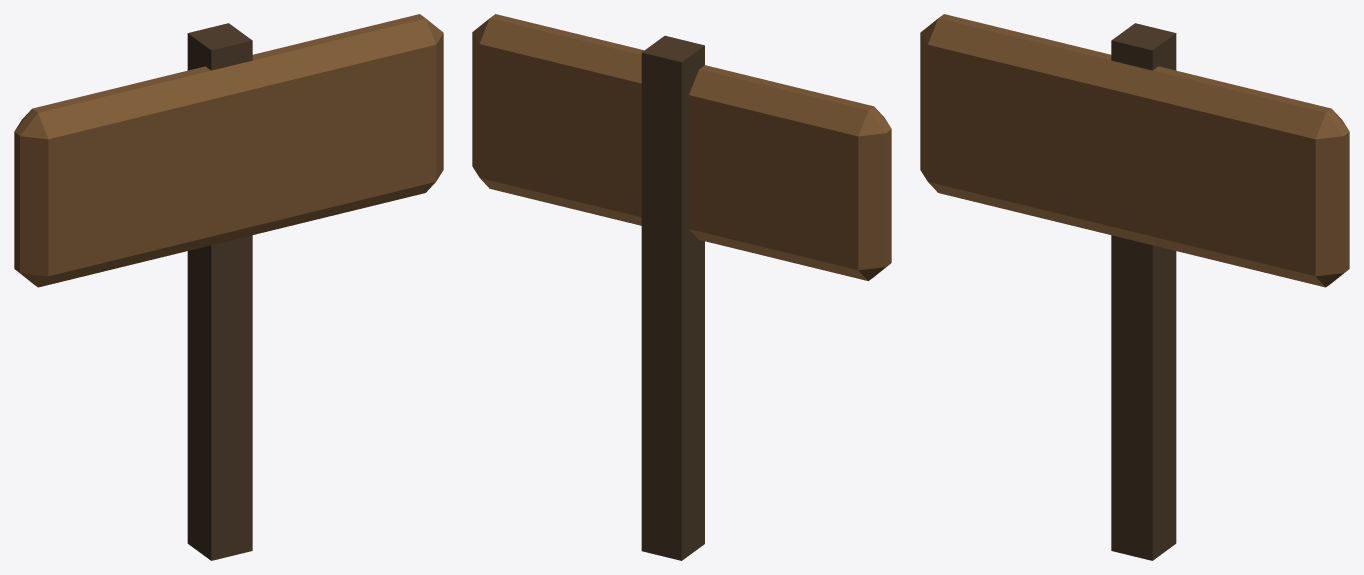
File: wooden_sign.glb
3 views of the same model, side by side, from view 1: azimuth 30°, elevation 25°; view 2: azimuth 150°, elevation 25°; view 3: azimuth 330°, elevation 25° (orthographic). The views are drawn at different scales.
Parts seen in each view (by area): view 1: wooden_sign; view 2: wooden_sign; view 3: wooden_sign.
Part boxes in pixels (left/top/right/bottom): wooden_sign: left=14, top=14, right=443, bottom=560; wooden_sign: left=472, top=14, right=891, bottom=560; wooden_sign: left=920, top=14, right=1349, bottom=560.
Size of the model in its own units: 1.65 by 1.9 by 0.23.
